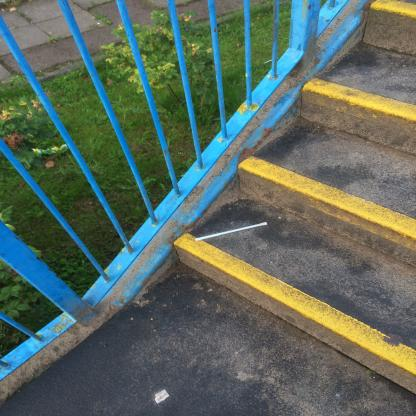trash: (191, 217, 268, 244), (150, 387, 174, 405)
